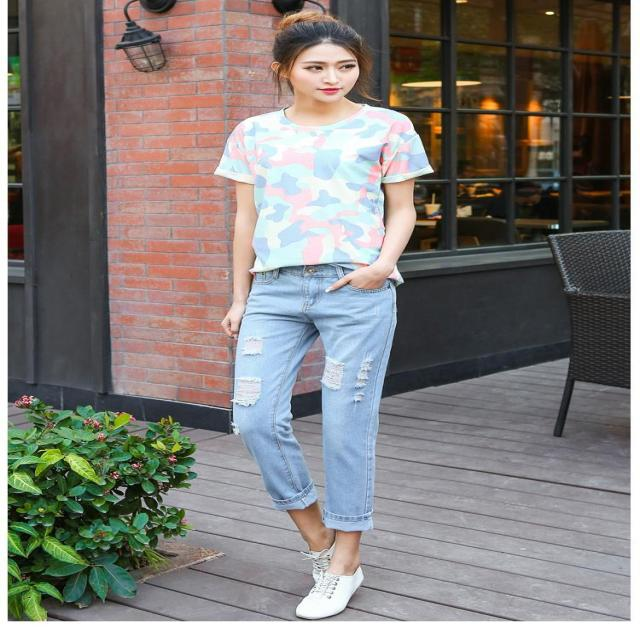short sleeve top: (213, 104, 436, 284)
trousers: (231, 260, 388, 527)
